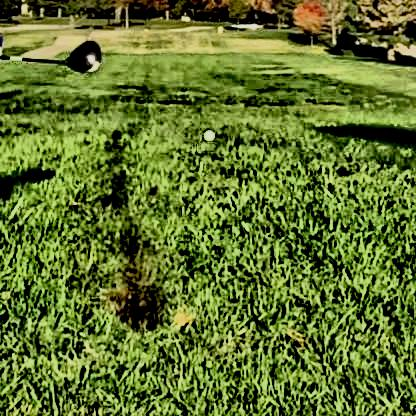golfball: (200, 125, 214, 139)
